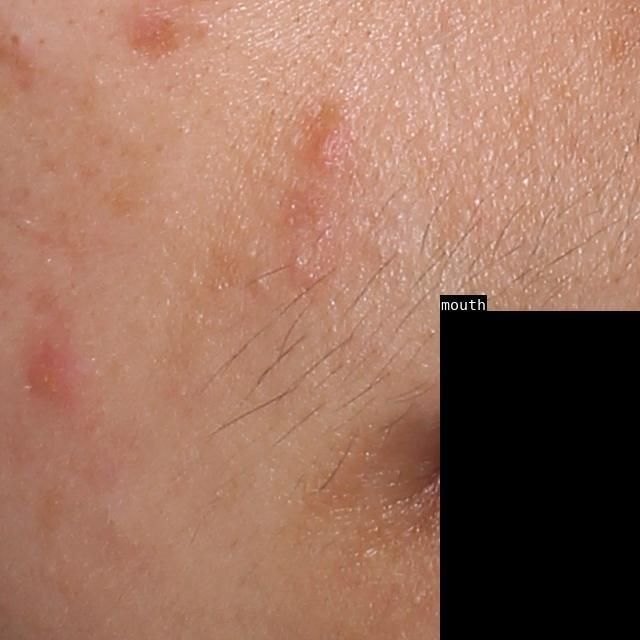comedo: (8, 28, 33, 52), (249, 272, 269, 291)
papule: (29, 348, 69, 394), (308, 122, 341, 169)
